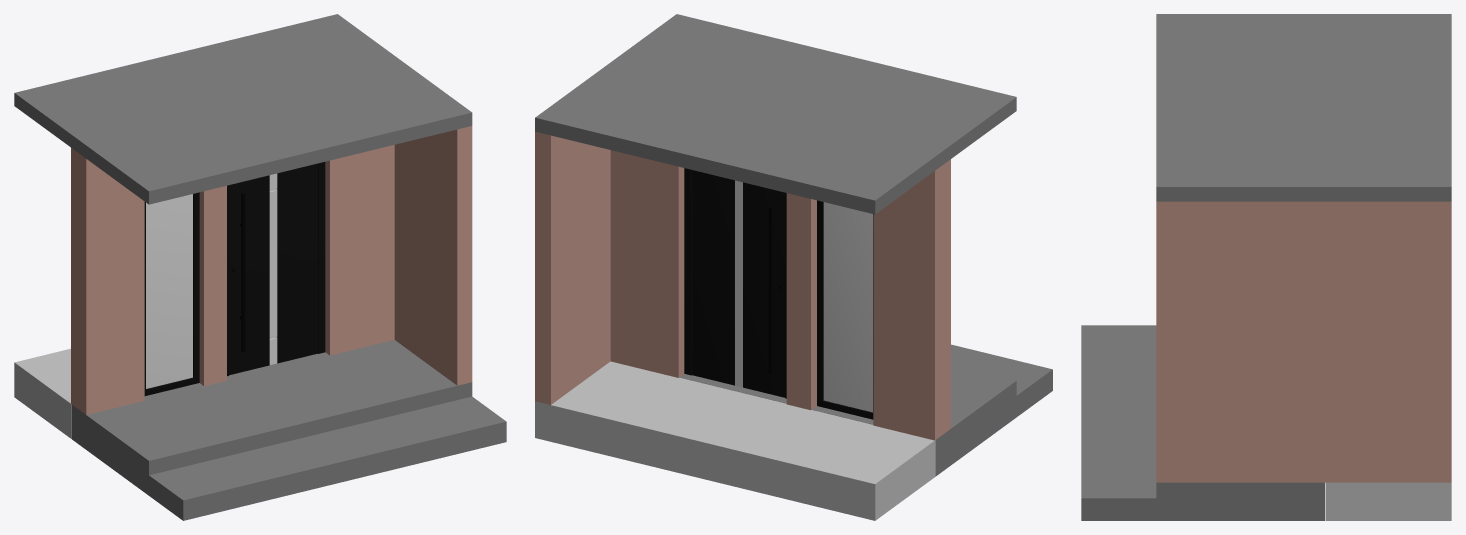
Rendered from usa_cu_geam_si_pereti.fbx.
The picture shows the model from 3 angles, left to right: view 1: azimuth 30°, elevation 25°; view 2: azimuth 150°, elevation 25°; view 3: azimuth 270°, elevation 25°; orthographic projection. The views are drawn at different scales.
Visible parts, largest first — view 1: Plane012, Box030, Plane010, Plane011, Box032, gea,, Foaie usa004, Foaie usa 006, Plane013, Box033, sticla004, Box028 (+2 smaller); view 2: Plane012, Box030, Plane013, Box031, gea,, Foaie usa004, Foaie usa 006, Plane010, Plane011, Box033, Box028, sticla004 (+1 smaller); view 3: Plane012, Box032, Box031, Plane011, Box030, Plane010, Plane013.
Part boxes in pixels (left/top/right/bottom): Plane012: left=14, top=14, right=472, bottom=204; Box030: left=71, top=145, right=394, bottom=414; Plane010: left=72, top=340, right=472, bottom=495; Plane011: left=149, top=396, right=506, bottom=520; Box032: left=394, top=126, right=472, bottom=385; gea,: left=146, top=194, right=192, bottom=388; Foaie usa004: left=277, top=163, right=317, bottom=363; Foaie usa 006: left=229, top=175, right=269, bottom=374; Plane013: left=14, top=348, right=71, bottom=438; Box033: left=144, top=192, right=199, bottom=395; sticla004: left=269, top=173, right=277, bottom=364; Box028: left=318, top=162, right=325, bottom=353; Plane012: left=535, top=14, right=1016, bottom=214; Box030: left=610, top=150, right=950, bottom=440; Plane013: left=535, top=361, right=935, bottom=520; Box031: left=535, top=131, right=610, bottom=404; gea,: left=823, top=202, right=872, bottom=412; Foaie usa004: left=692, top=170, right=734, bottom=385; Foaie usa 006: left=743, top=182, right=785, bottom=397; Plane010: left=679, top=364, right=1016, bottom=476; Plane011: left=951, top=344, right=1052, bottom=416; Box033: left=817, top=200, right=873, bottom=419; Box028: left=684, top=168, right=692, bottom=375; sticla004: left=735, top=180, right=742, bottom=387; Plane012: left=1156, top=14, right=1451, bottom=201; Box032: left=1156, top=201, right=1293, bottom=482; Box031: left=1327, top=201, right=1451, bottom=482; Plane011: left=1081, top=325, right=1156, bottom=520; Box030: left=1294, top=201, right=1327, bottom=482; Plane010: left=1156, top=482, right=1325, bottom=520; Plane013: left=1326, top=482, right=1451, bottom=520.
Size of the model in its own units: 135 by 122 by 122.
